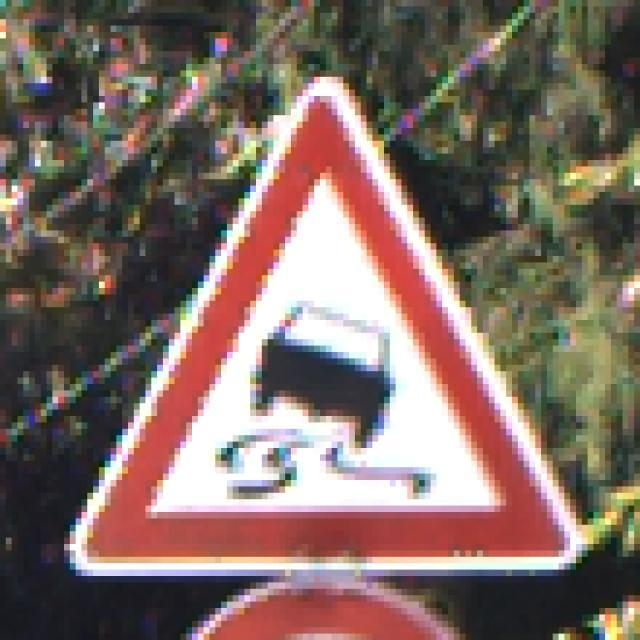slippery road: (76, 87, 568, 570)
